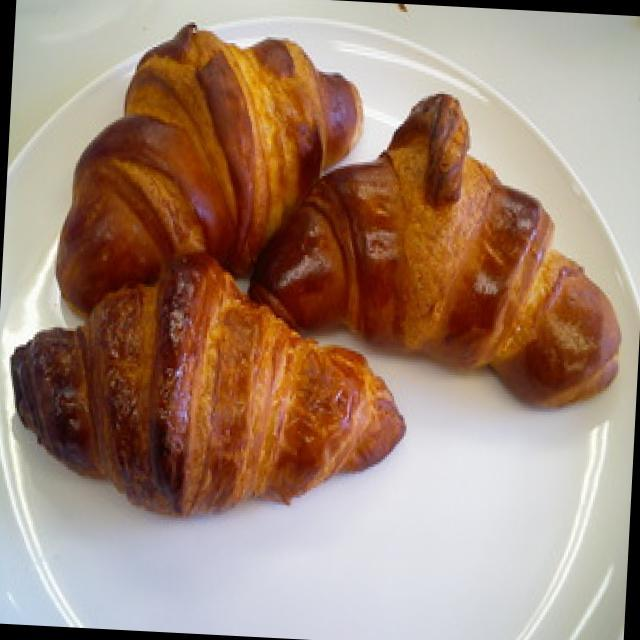Croissant: (0, 234, 417, 512), (270, 74, 640, 384)
